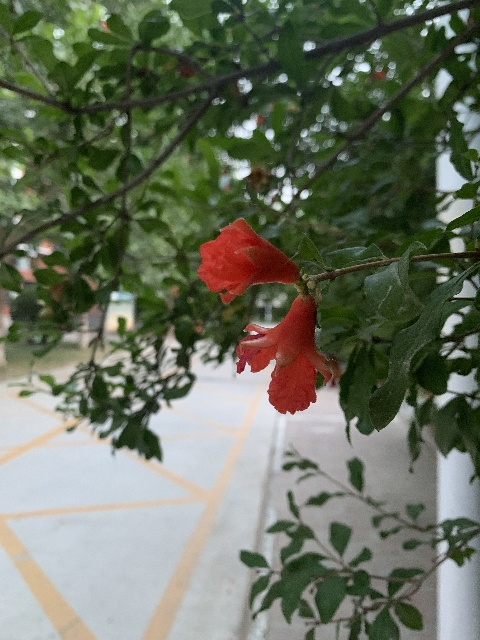flower: (234, 293, 333, 415), (196, 218, 299, 304)
